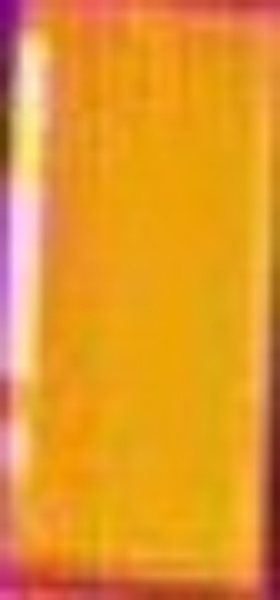Diode: (2, 29, 60, 505)
